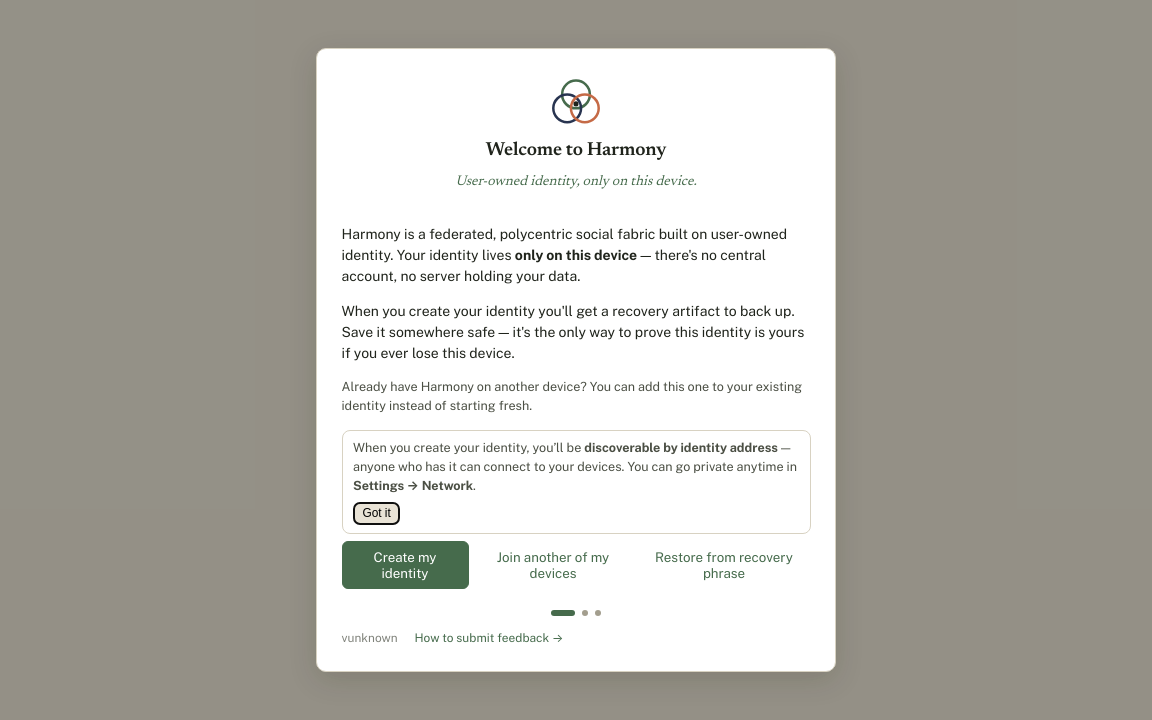
Test: WelcomeModal hard gate + flow › shows a dismissible discoverability privacy note on the welcome stage (ZEB-881)
This screenshot has width=1152, height=720.
Expected: the element with test id "welcome-discoverability-note" shows "create your identity", [353,440,584,455]
Expected: the element with test id "welcome-discoverability-note" shows "discoverable", [584,440,778,455]
Click the button with test id "welcome-discoverability-note-dismiss" at (377, 513), box [353,502,400,525]
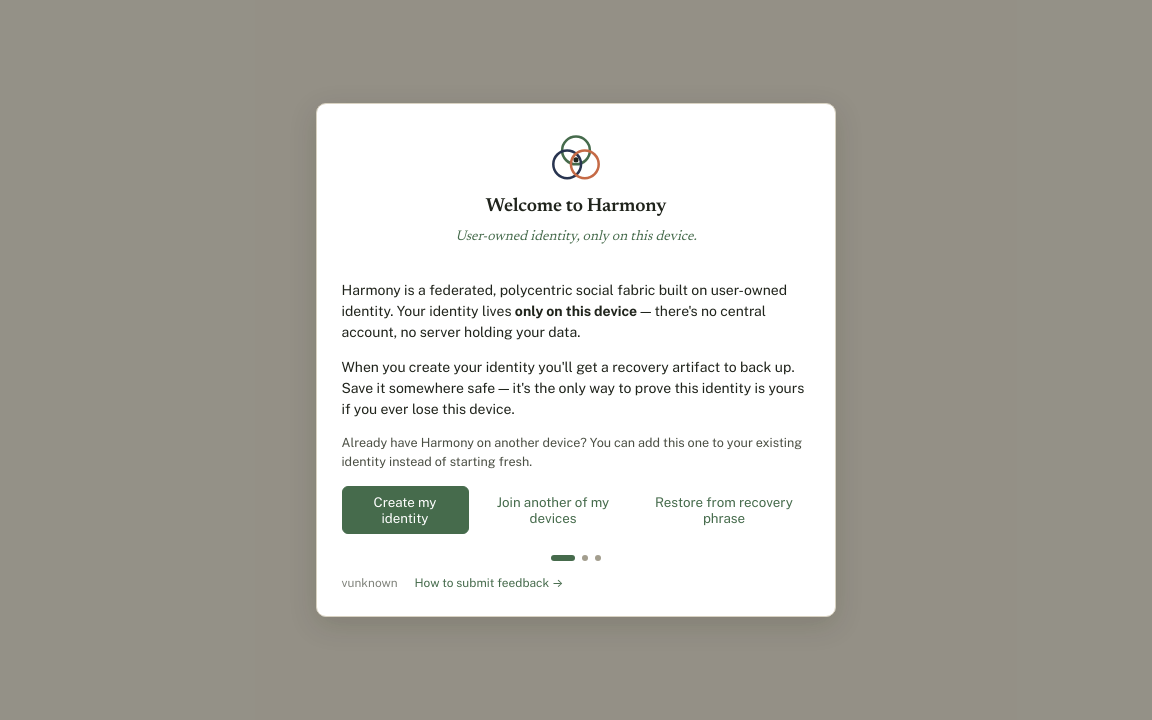
Expected: the element with test id "welcome-discoverability-note" is gone
